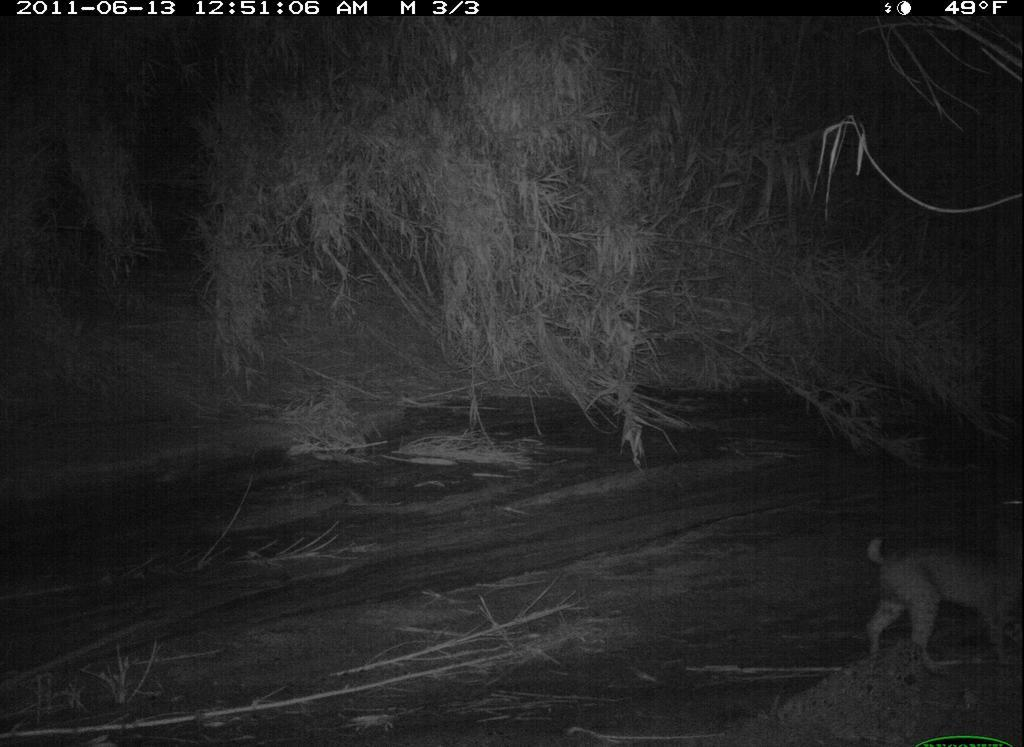bobcat: (844, 518, 1008, 684)
